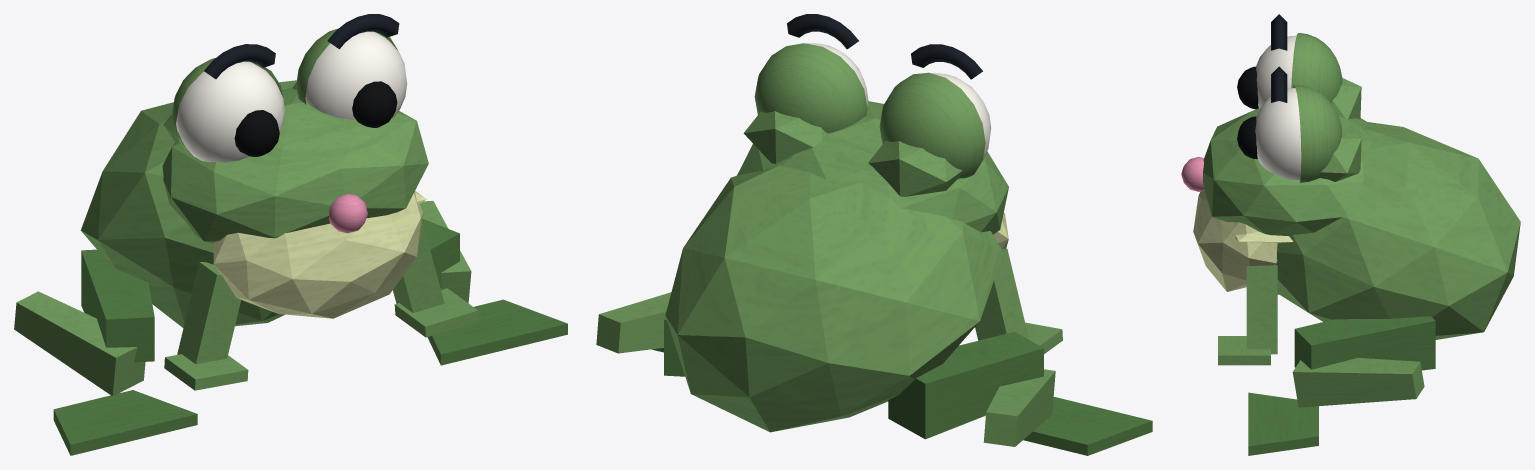
File: frog.glb
3 renders of one model, left to right at view 1: azimuth 30°, elevation 25°; view 2: azimuth 150°, elevation 25°; view 3: azimuth 270°, elevation 25°, orthographic. The views are drawn at different scales.
Parts seen in each view (by area): view 1: head, body, kneeR, shoulderR, kneeL, hipR, shoulderL, hipL, tongue; view 2: body, head, hipR, kneeR, shoulderR, kneeL, hipL; view 3: body, head, kneeL, hipL, shoulderL, tongue, jaw.
Boxes of the visible parts, <box> form: head: <box>162,14,428,242</box>; body: <box>80,80,422,327</box>; kneeR: <box>14,291,197,455</box>; shoulderR: <box>164,262,248,390</box>; kneeL: <box>419,201,567,365</box>; hipR: <box>81,249,154,362</box>; shoulderL: <box>393,223,478,337</box>; hipL: <box>421,218,459,287</box>; tongue: <box>328,194,367,233</box>; body: <box>665,165,1008,432</box>; head: <box>737,14,1008,234</box>; hipR: <box>888,331,1043,439</box>; kneeR: <box>983,369,1152,455</box>; shoulderR: <box>975,248,1062,353</box>; kneeL: <box>596,292,671,353</box>; hipL: <box>664,316,684,376</box>; body: <box>1193,122,1520,339</box>; head: <box>1203,14,1373,235</box>; kneeL: <box>1248,357,1424,455</box>; hipL: <box>1294,316,1435,370</box>; shoulderL: <box>1218,265,1277,365</box>; tongue: <box>1181,157,1204,191</box>; jaw: <box>1235,232,1293,242</box>.
Bounding box in the file's own units: 0.564 × 0.3813 × 0.384.
16 materials, 13 textured.
